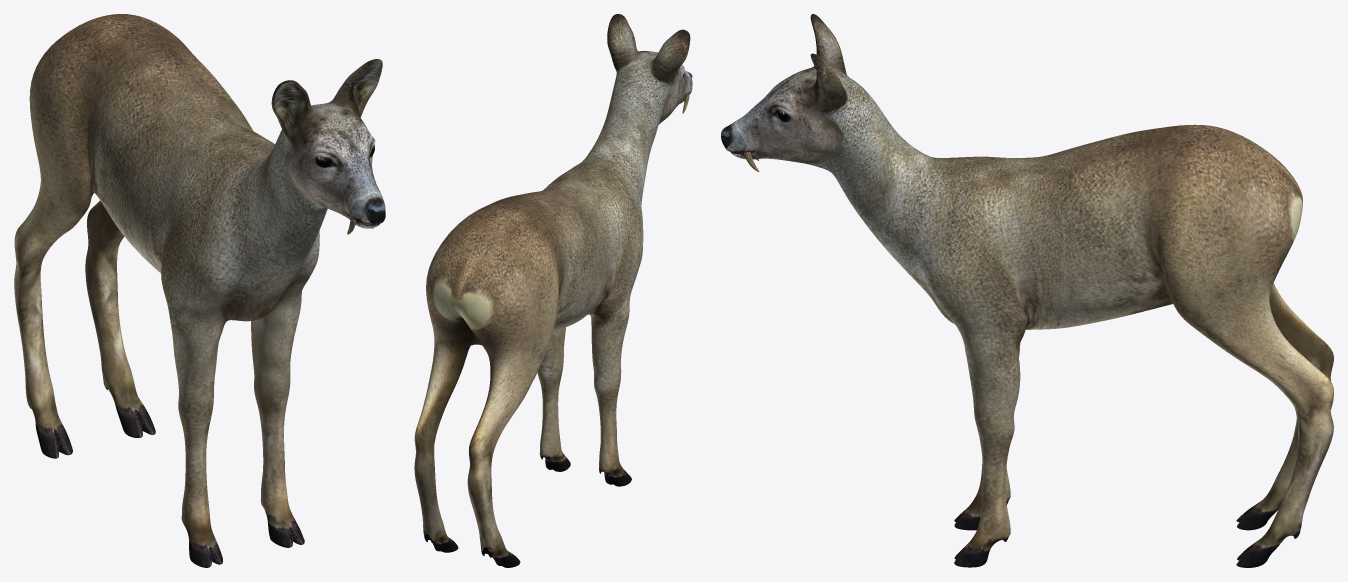
The model's file is mrdeer.fbx.
3 views of the same model, side by side, from view 1: azimuth 30°, elevation 25°; view 2: azimuth 150°, elevation 25°; view 3: azimuth 270°, elevation 25° (orthographic). The views are drawn at different scales.
Visible parts, largest first — view 1: 13573_Musk_Deer_v1_L3; view 2: 13573_Musk_Deer_v1_L3; view 3: 13573_Musk_Deer_v1_L3.
Boxes of the visible parts, x1,y1,x2,y2 form: 13573_Musk_Deer_v1_L3: (14, 14, 385, 567); 13573_Musk_Deer_v1_L3: (414, 14, 692, 567); 13573_Musk_Deer_v1_L3: (721, 14, 1333, 567).
Size of the model in its own units: 1801 by 6518 by 7114.
